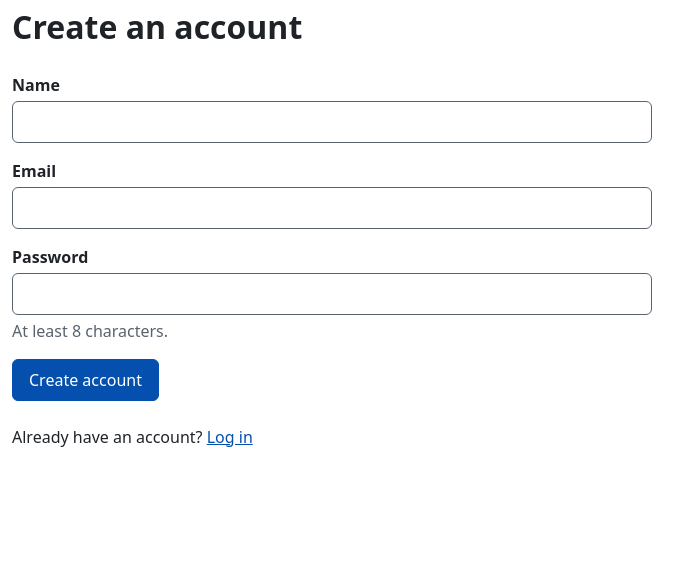
it: RegisterPage › says so when the email already has an account
The image size is (674, 562).
Type "Sam Student" into the field labelled "Name". click: coordinates (332, 122)
box: [12, 101, 652, 143]
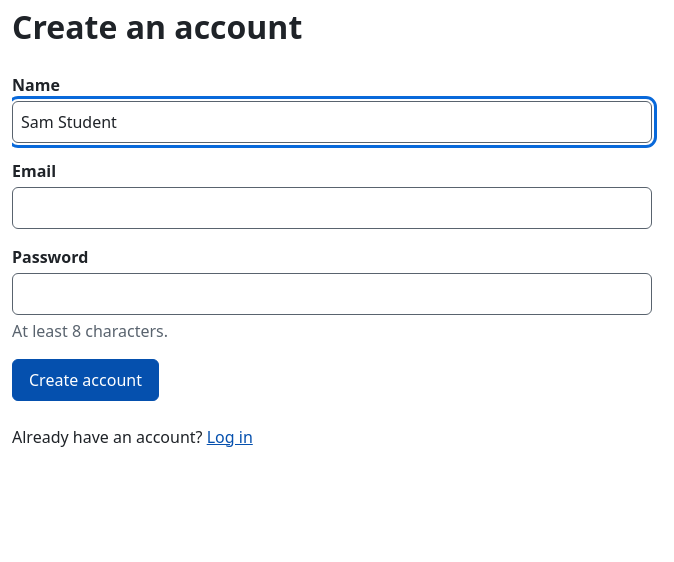
Type "sam@example.com" into the field labelled "Email". click: coordinates (332, 208)
box: [12, 187, 652, 229]
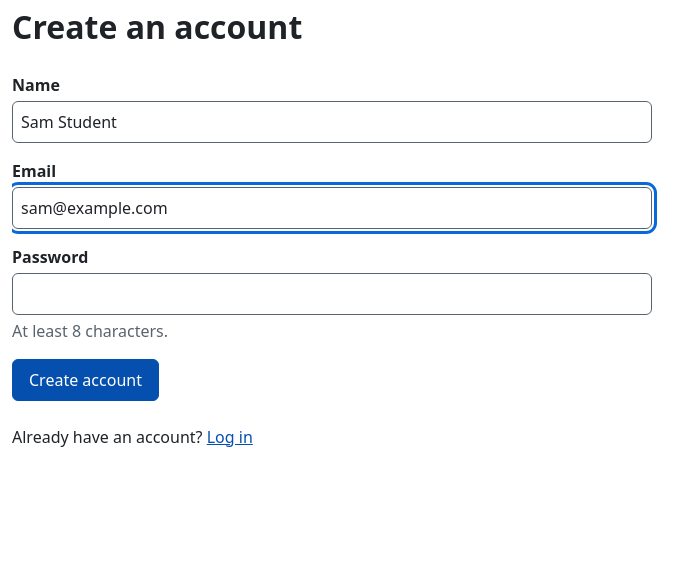
Type "password123" into the password field labelled "Password". click: coordinates (332, 294)
box: [12, 273, 652, 315]
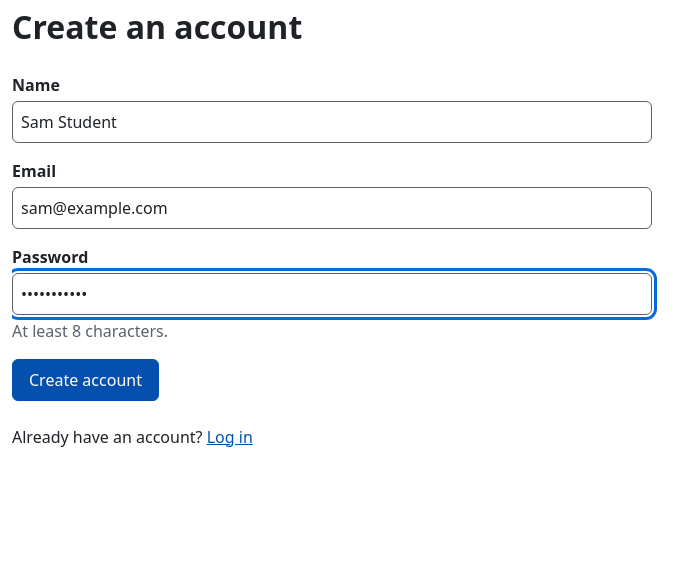
Click the button "Create account". click: coordinates (85, 380)
box: [12, 359, 159, 401]
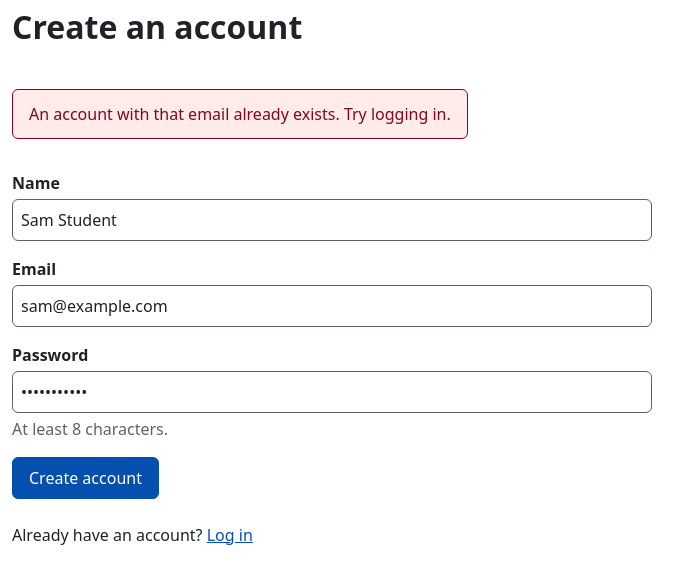
Now the message shows "An account with that email already exists", box [29, 103, 451, 125]
